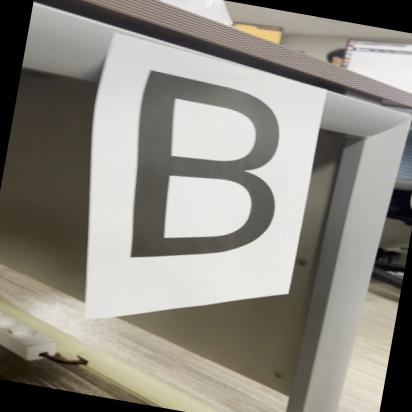seat: (104, 54, 326, 296)
